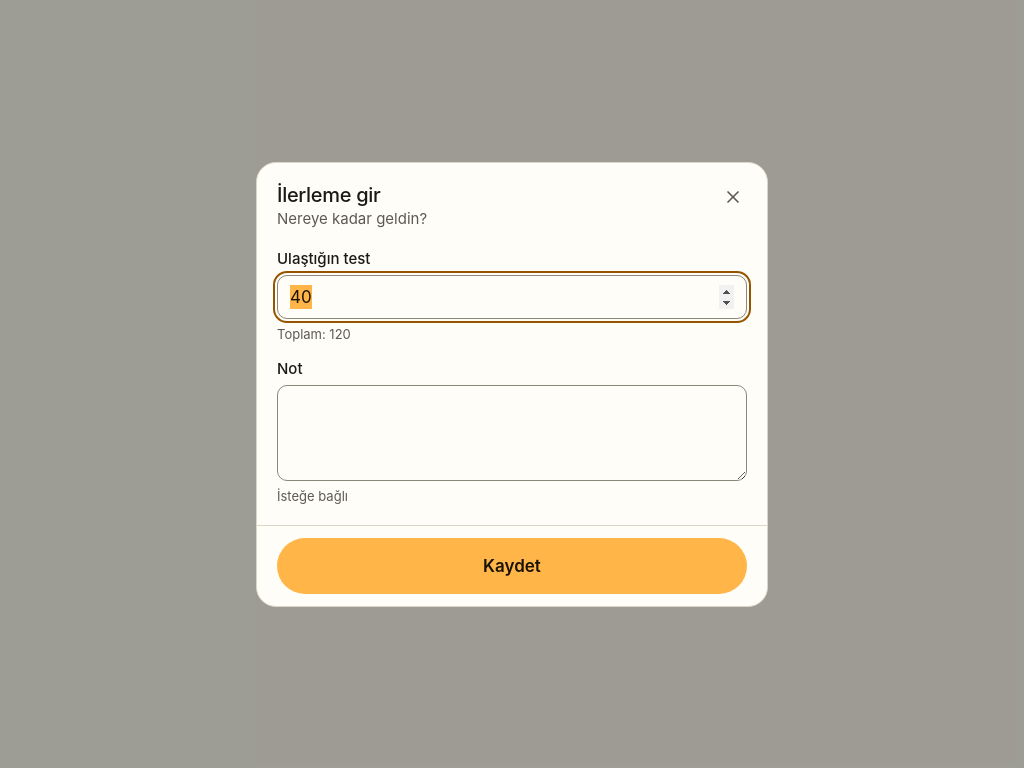
ProgressSheet › geriye giden ve toplama ulaşan değerler için uyarır
Replace the text in the number field labelled "Ulaştığın test" with "30" at point(512, 296), box top-left (277, 274), bottom-right (747, 318)
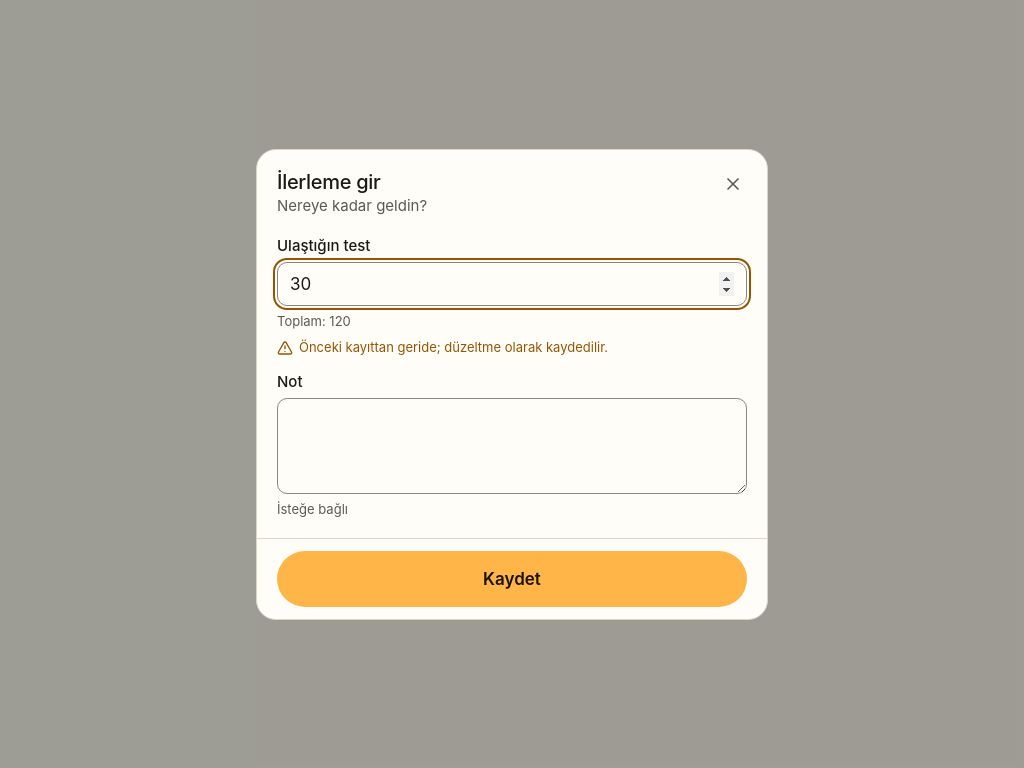
Expected: the text "Kitap tamamlandı olarak işaretlenecek." is not shown
Expected: the text "Önceki kayıttan geride; düzeltme olarak kaydedilir." is shown, top-left (299, 338), bottom-right (608, 356)
Clear the number field labelled "Ulaştığın test" at point(512, 284), box top-left (277, 262), bottom-right (747, 306)
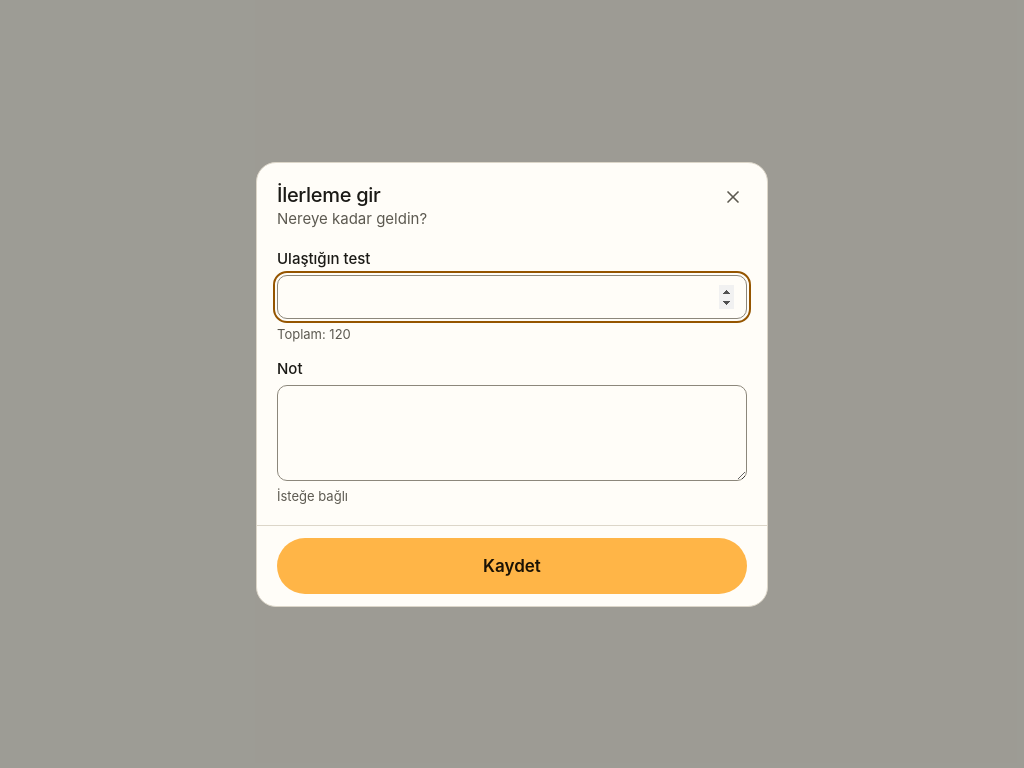
Type "120" into the number field labelled "Ulaştığın test" at point(512, 296), box top-left (277, 274), bottom-right (747, 318)
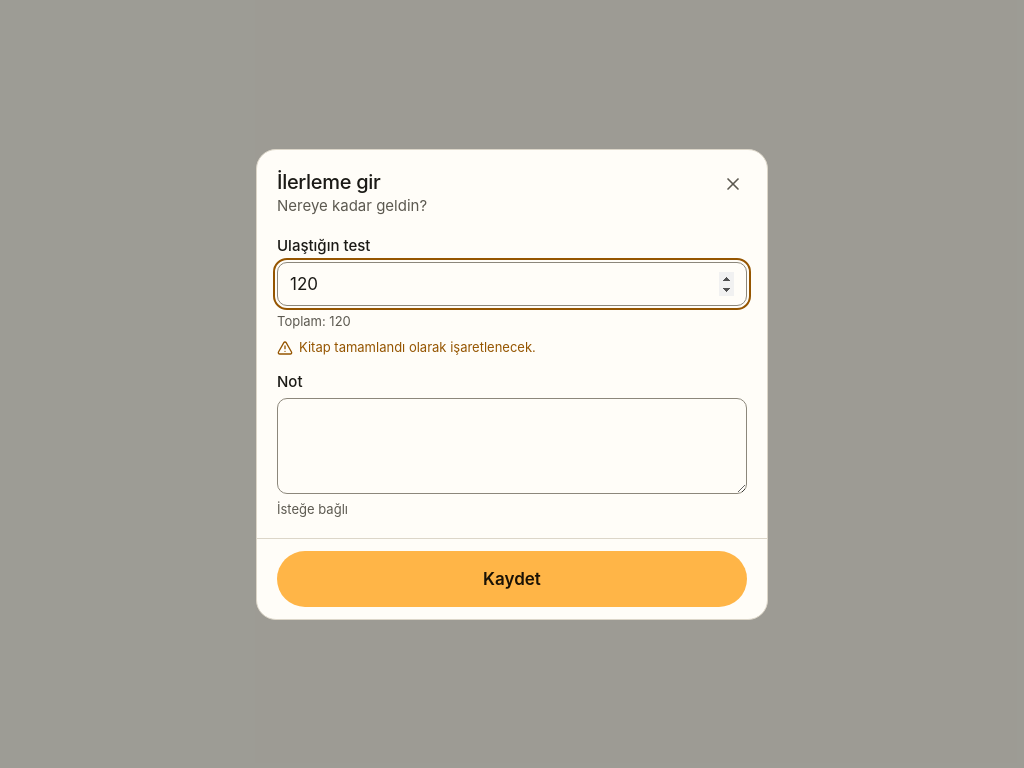
Expected: the text "Önceki kayıttan geride; düzeltme olarak kaydedilir." is not shown
Expected: the text "Kitap tamamlandı olarak işaretlenecek." is shown, top-left (299, 338), bottom-right (536, 356)
